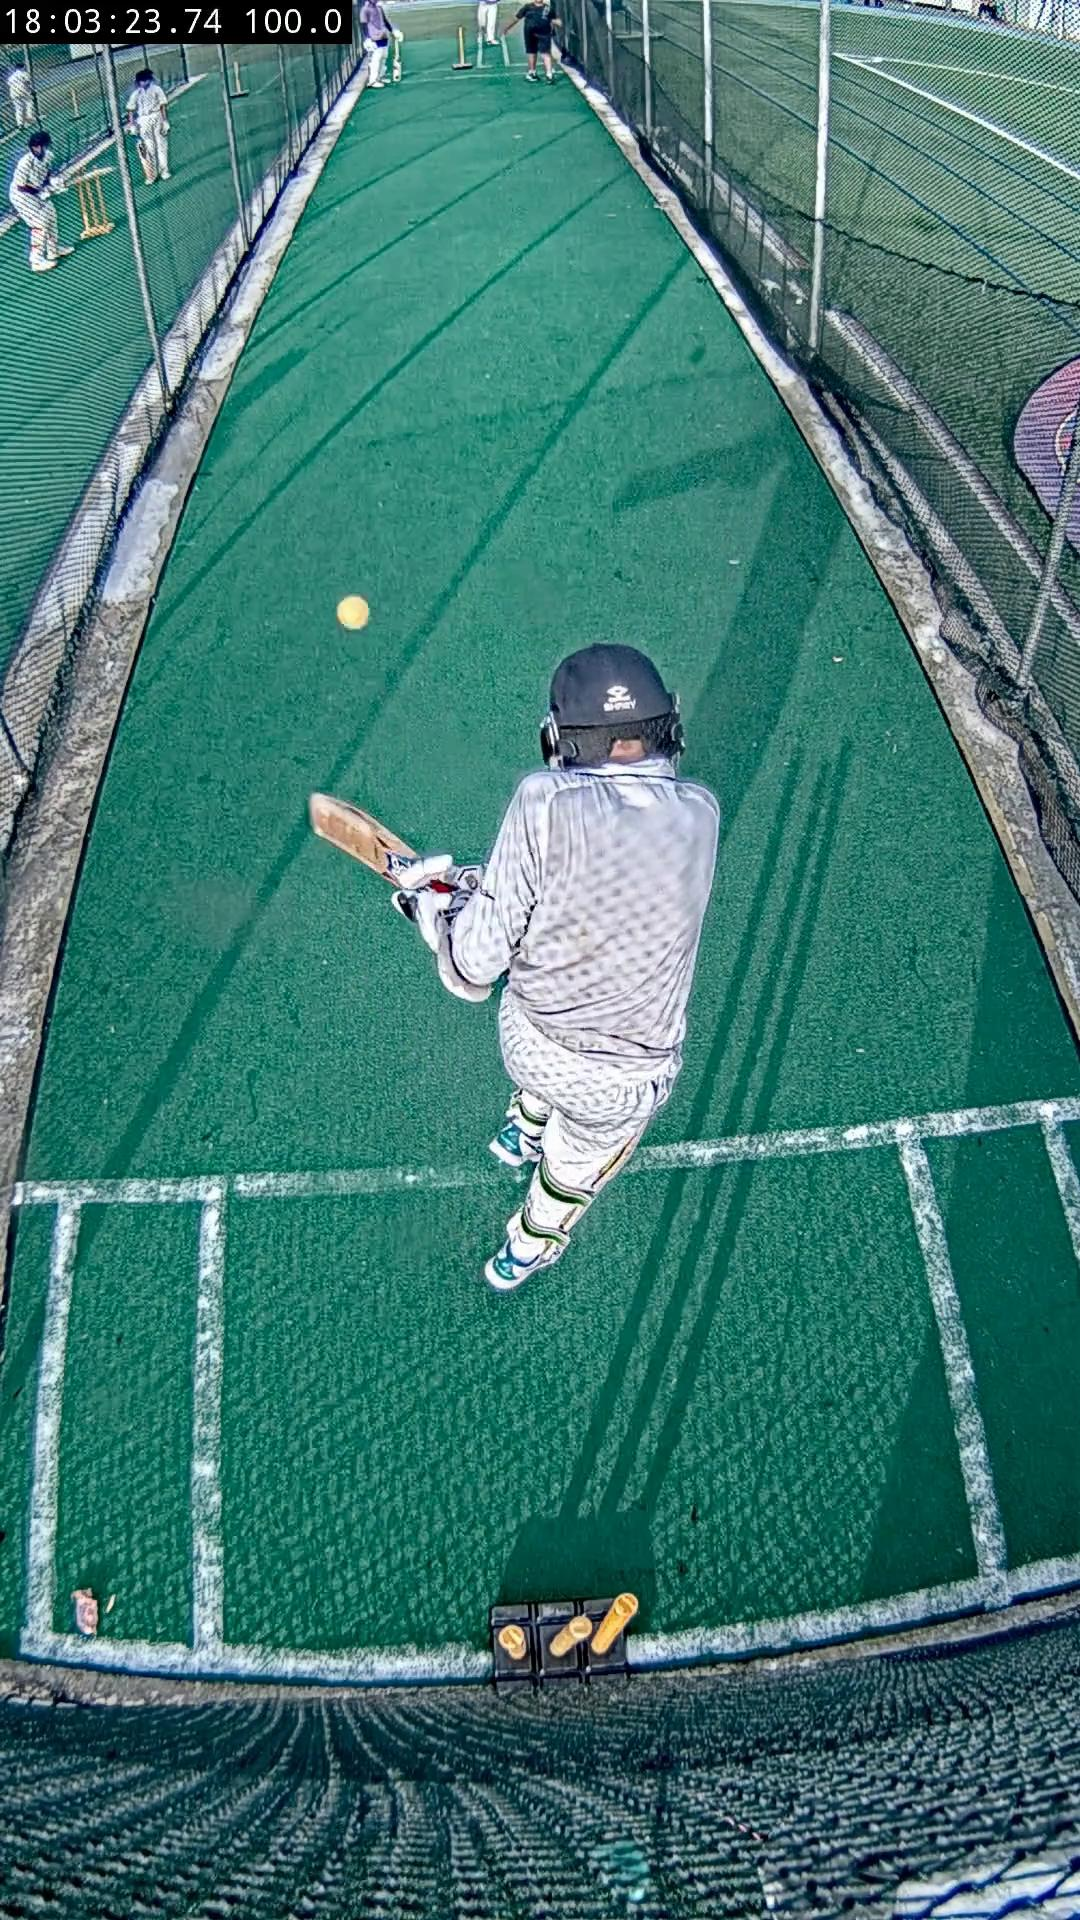ball: (338, 596, 372, 630)
bat: (307, 791, 419, 881)
gloves: (394, 855, 454, 948)
helmet: (551, 645, 675, 728)
stumps: (492, 1594, 641, 1684)
